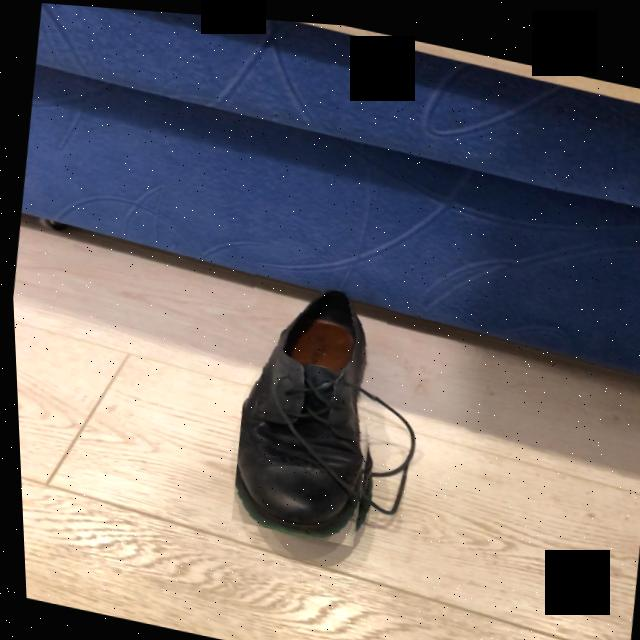shoe: (231, 286, 365, 535)
